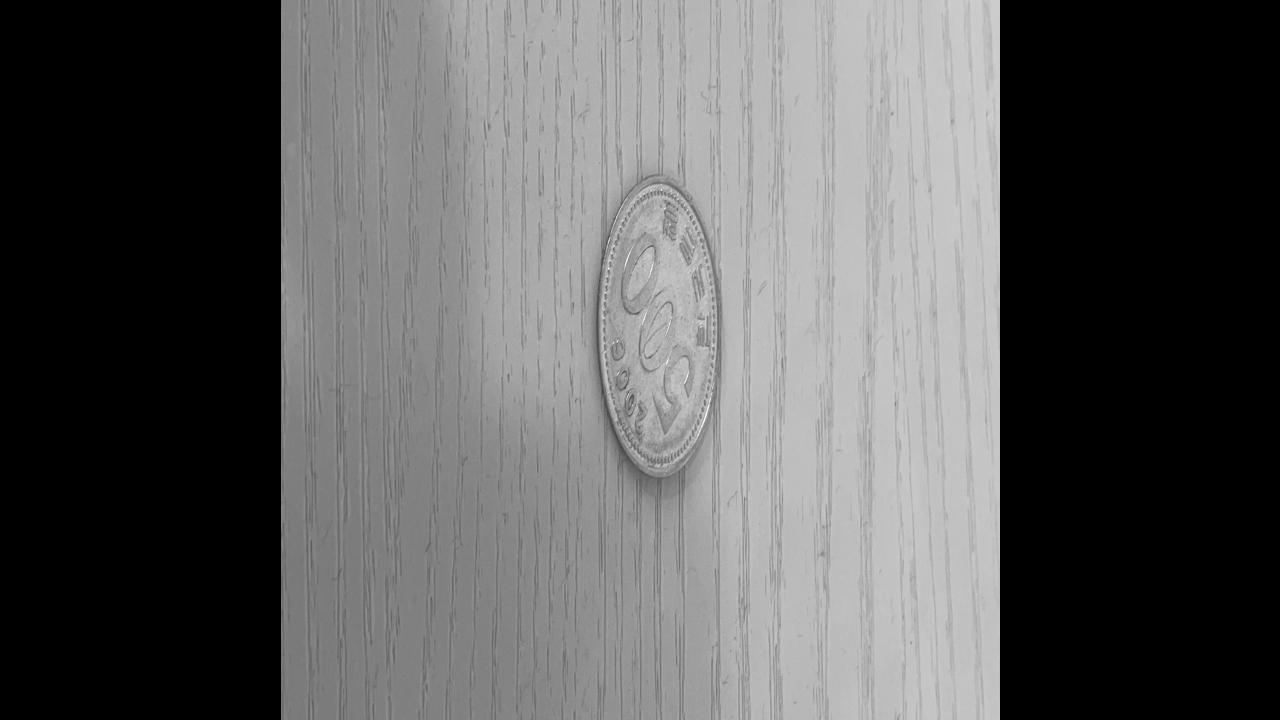coin: (597, 174, 718, 479)
